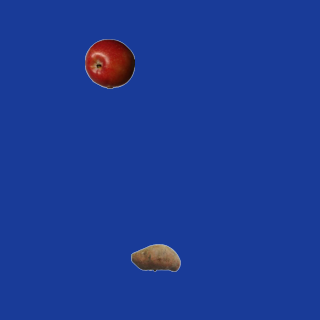Apple Braeburn: (84, 38, 134, 88)
Potato Sweet: (130, 232, 180, 282)
